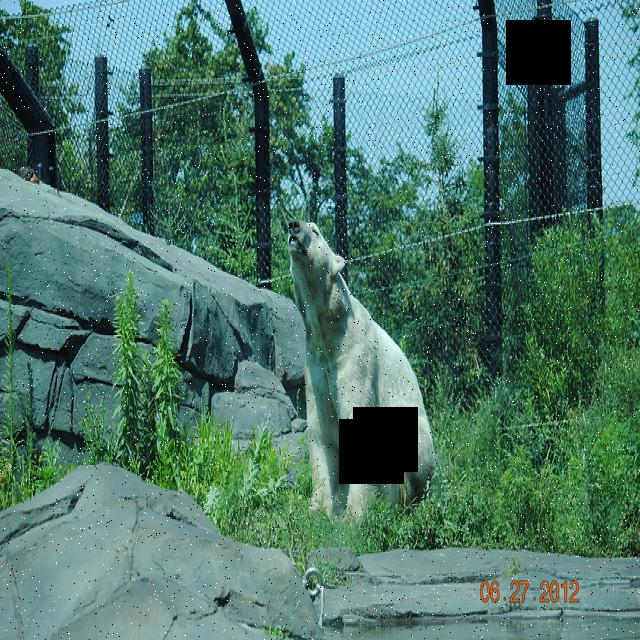Bear: (282, 215, 439, 514)
